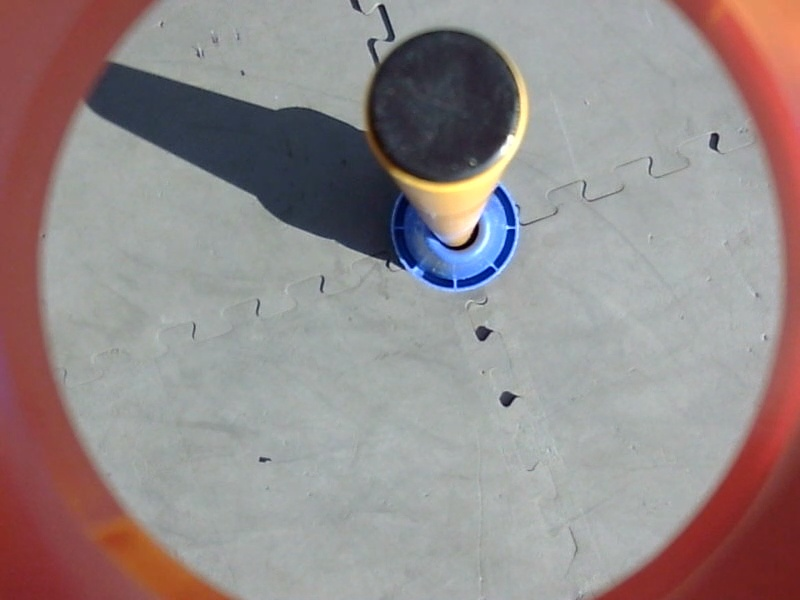tip: (358, 22, 536, 192)
